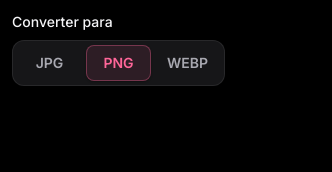
Test case: SegmentedControl › muda a seleção com as setas, circulando nas pontas
The image size is (332, 172).
Click the radio button labelled "PNG" at (118, 63), box [86,45,151,81]
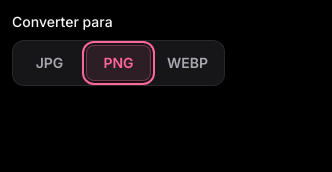
Press Arrowright
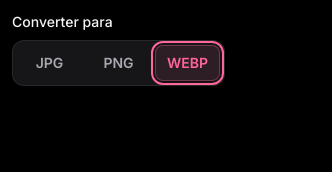
expect the radio button labelled "WEBP" is checked: met, box [155,45,220,81]
Press Arrowright
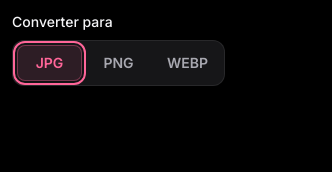
expect the radio button labelled "JPG" is checked: met, box [17,45,82,81]
